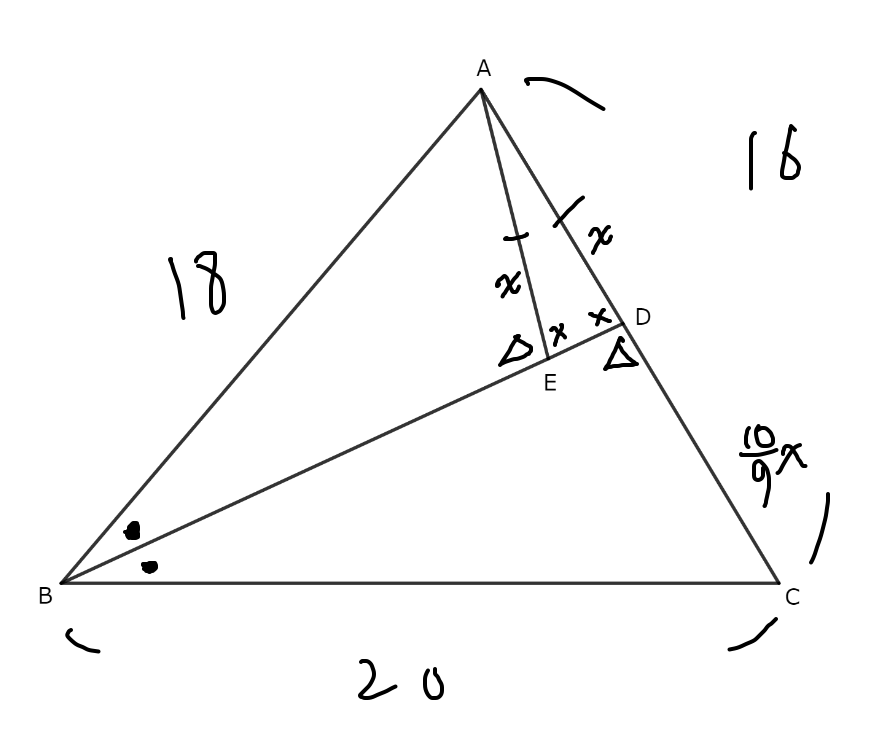Angle_Point: (117, 517, 145, 543), (135, 559, 165, 581)
Angle_x: (582, 304, 615, 330), (544, 317, 572, 347)
Edge_Spine: (548, 188, 588, 228), (501, 228, 538, 246)
